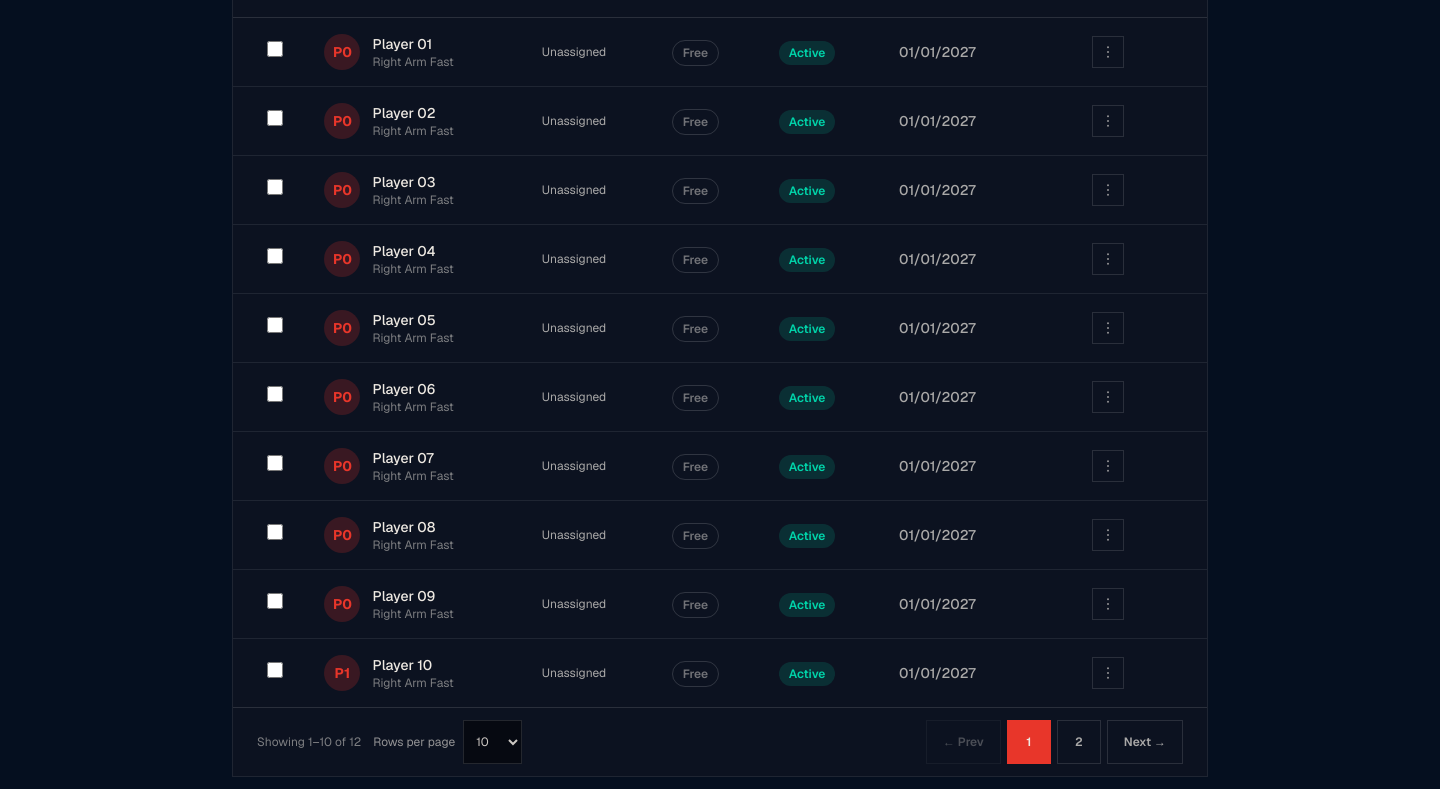
Test: PlayersClient › paginates the table at 10 players per page
(page scrolled)
Check: the text "Player 01" is shown, box 372,35 -> 432,53
Check: the text "Showing 1–10 of 12" is shown, box 257,734 -> 361,750
Click the button "Next →" at (1145, 742), box 1107,720 -> 1183,764
(page scrolled)
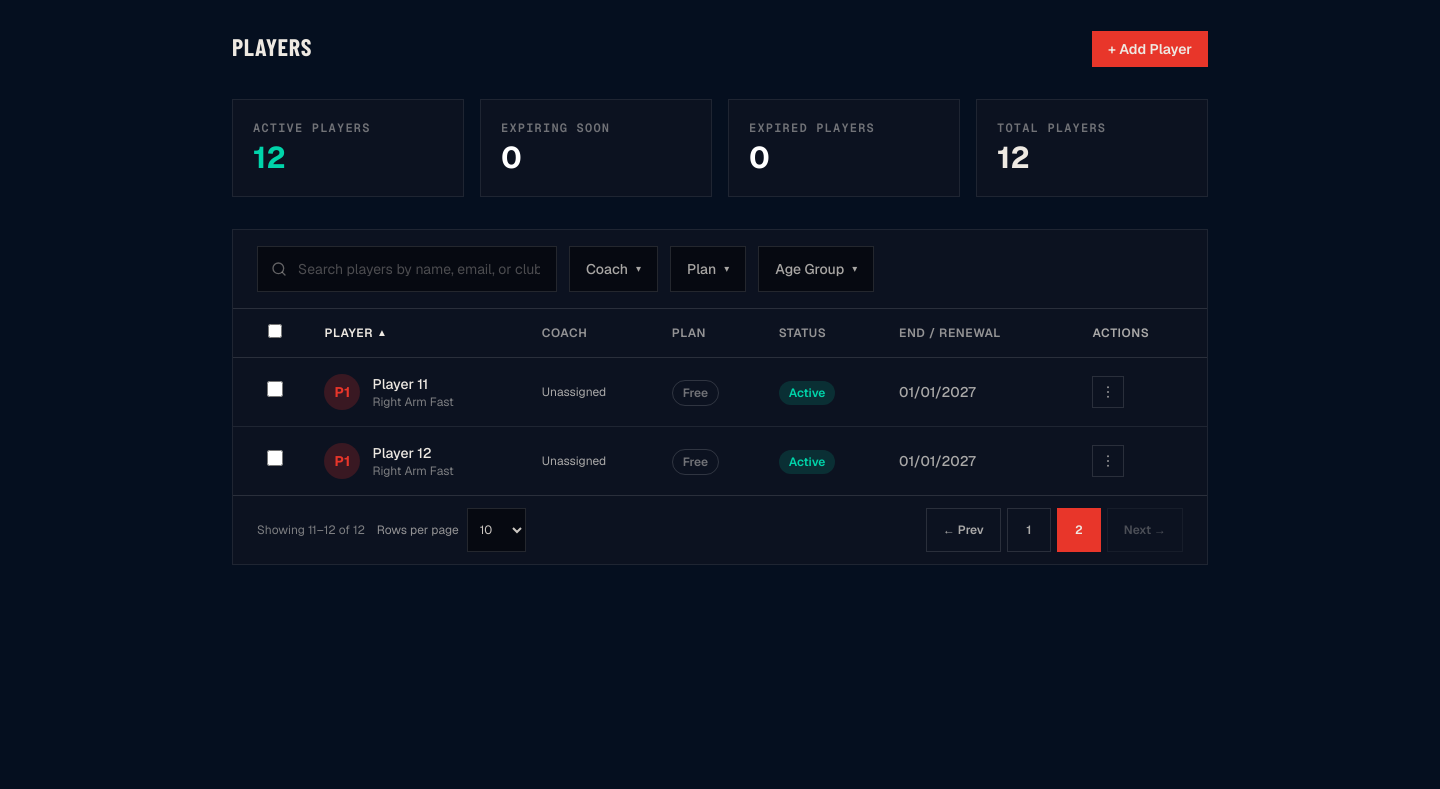
Check: the text "Player 11" is shown, box 372,375 -> 428,393
Check: the text "Player 12" is shown, box 372,444 -> 432,462
Check: the button "Player 01" is gone
Click the button "← Prev" at (963, 530), box 926,508 -> 1001,552
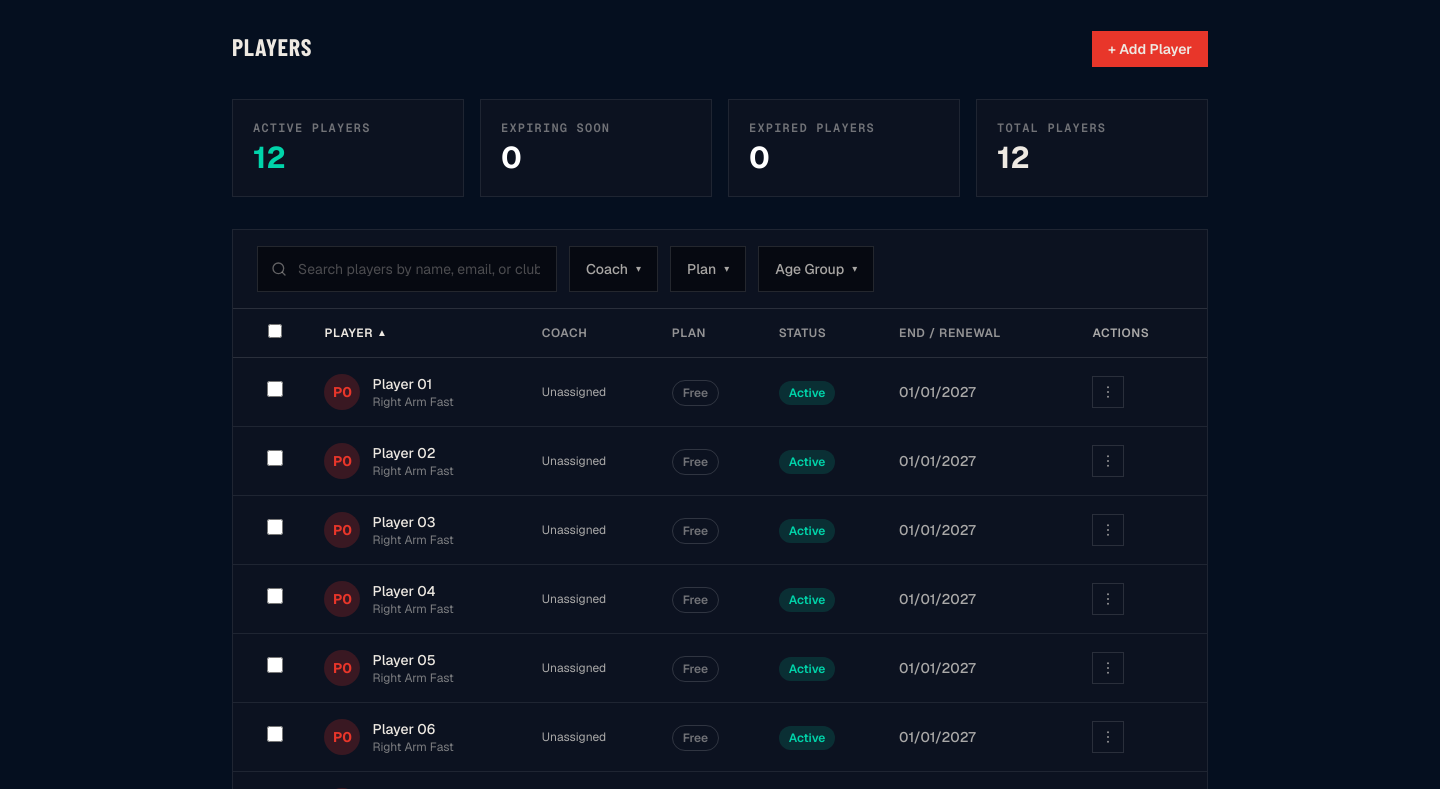
Check: the text "Player 01" is shown, box 372,375 -> 432,393
